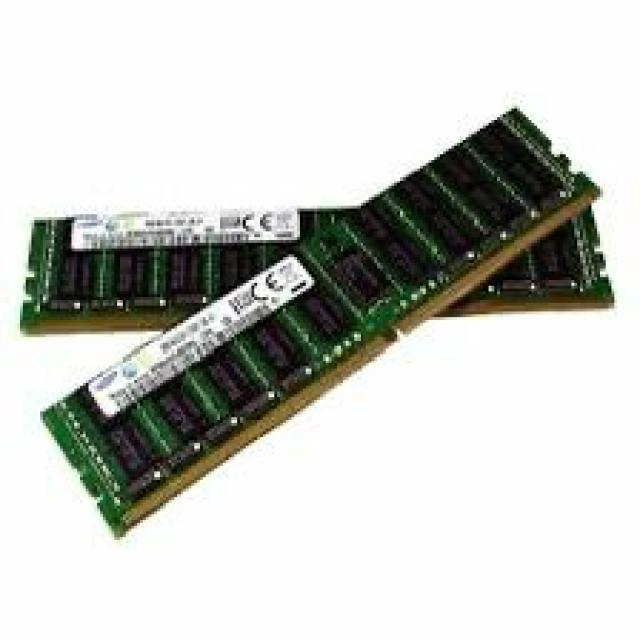Ram: (35, 96, 627, 604)
